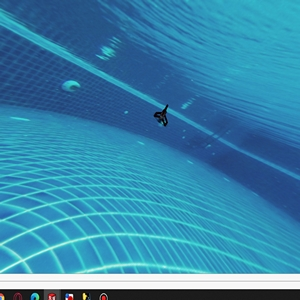submarine: (155, 106, 172, 129)
